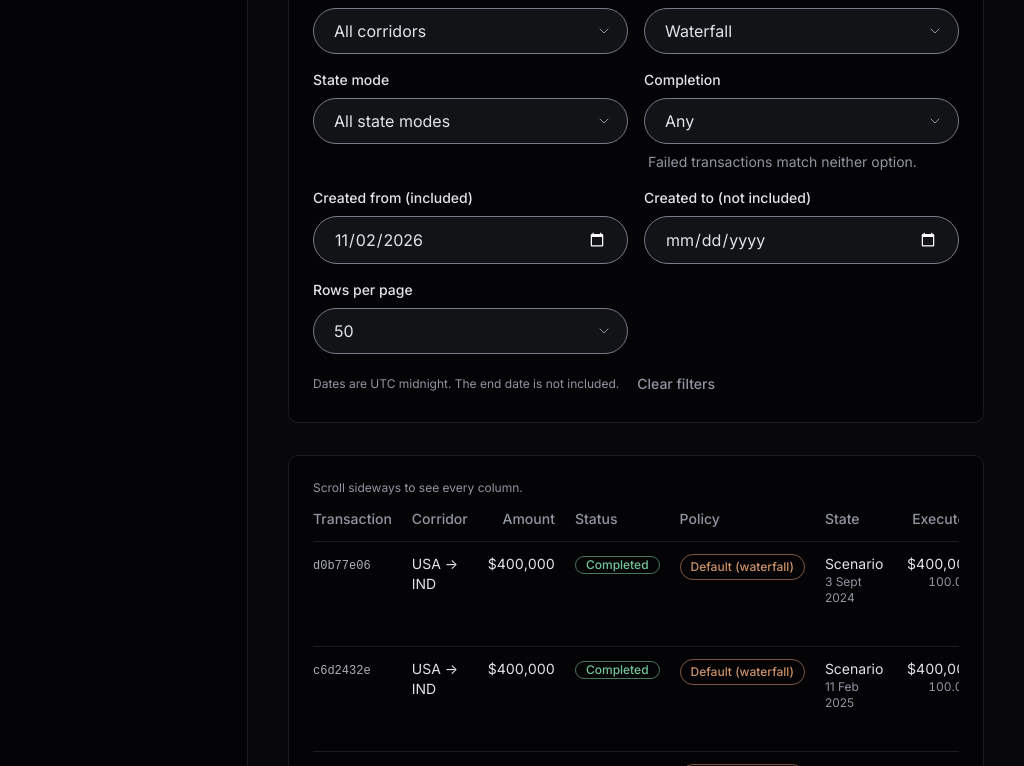
Test case: filters › clears the filters, and keeps the page size
(page scrolled)
Click the button "Clear filters" at (676, 384), box [631, 370, 721, 398]
(page scrolled)
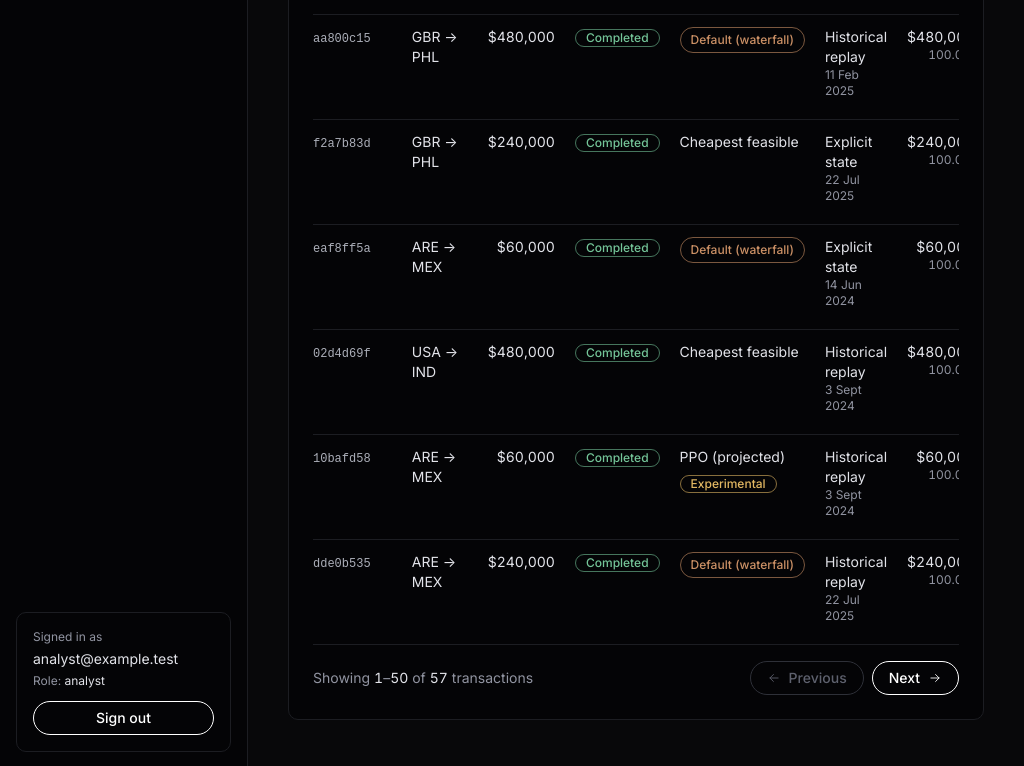
Now the navigation bar named "Pagination" shows "Showing 1–50 of 57", box [313, 646, 959, 696]
